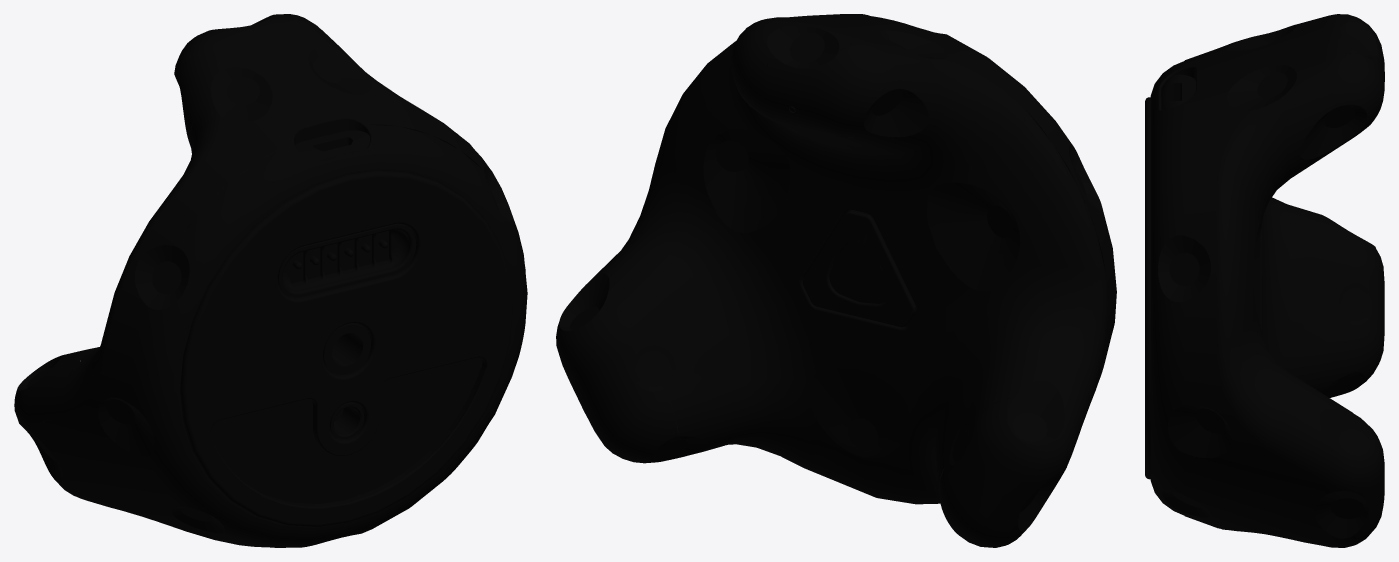
The model's file is HTC_Vive_Tracker.obj.
3 renders of one model, left to right at view 1: azimuth 30°, elevation 25°; view 2: azimuth 150°, elevation 25°; view 3: azimuth 270°, elevation 25°, orthographic. The views are drawn at different scales.
Visible parts, largest first — view 1: HTC_Vive_Tracker; view 2: HTC_Vive_Tracker; view 3: HTC_Vive_Tracker.
Boxes of the visible parts, x1,y1,x2,y2 form: HTC_Vive_Tracker: (14, 14, 527, 547); HTC_Vive_Tracker: (556, 14, 1116, 547); HTC_Vive_Tracker: (1145, 14, 1384, 547).
Size of the model in its own units: 0.0945 by 0.0921 by 0.0423.
1 material, 1 textured.
